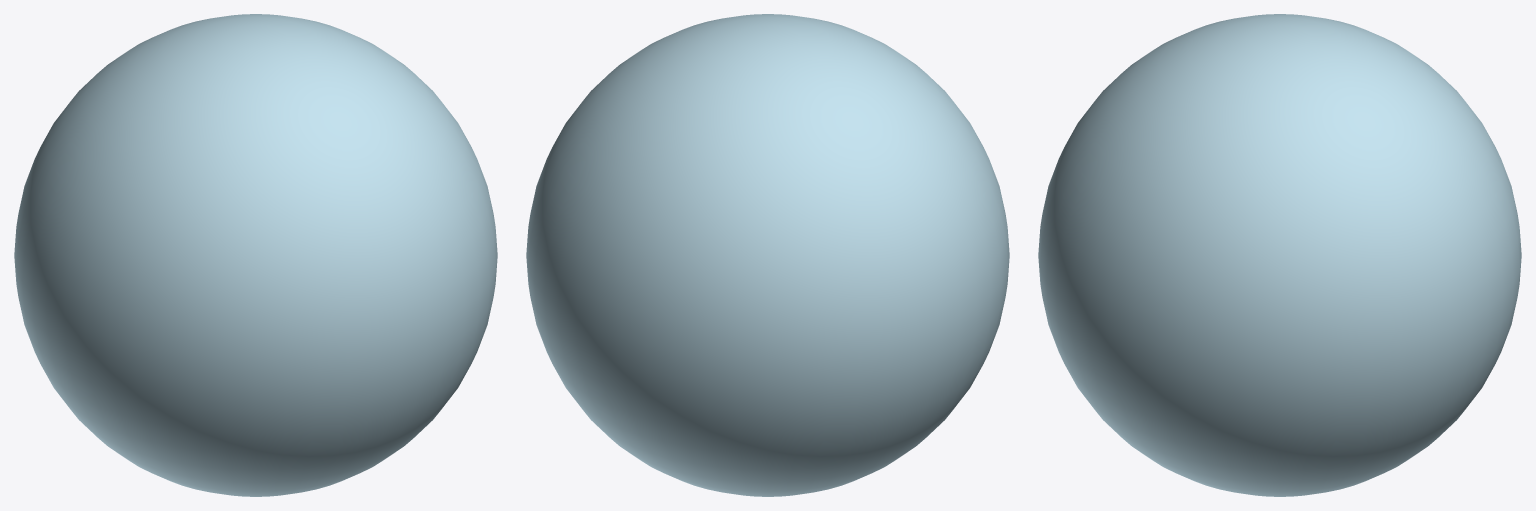
Rendered from lake360.glb.
3 views of the same model, side by side, from view 1: azimuth 30°, elevation 25°; view 2: azimuth 150°, elevation 25°; view 3: azimuth 270°, elevation 25° (orthographic).
Parts seen in each view (by area): view 1: Lake360_SkyDome; view 2: Lake360_SkyDome; view 3: Lake360_SkyDome.
Part boxes in pixels (left/top/right/bottom): Lake360_SkyDome: left=14, top=14, right=497, bottom=496; Lake360_SkyDome: left=526, top=14, right=1009, bottom=496; Lake360_SkyDome: left=1038, top=14, right=1521, bottom=496.
Size of the model in its own units: 1920 by 1920 by 1920.
